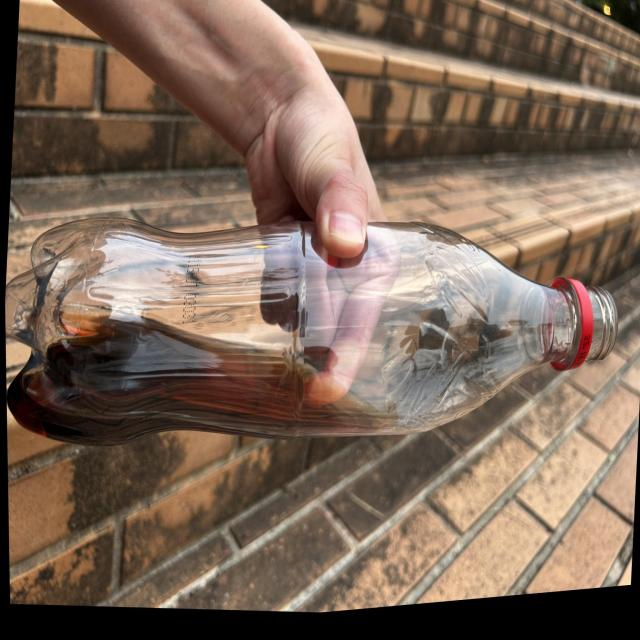low: (5, 219, 566, 444)
